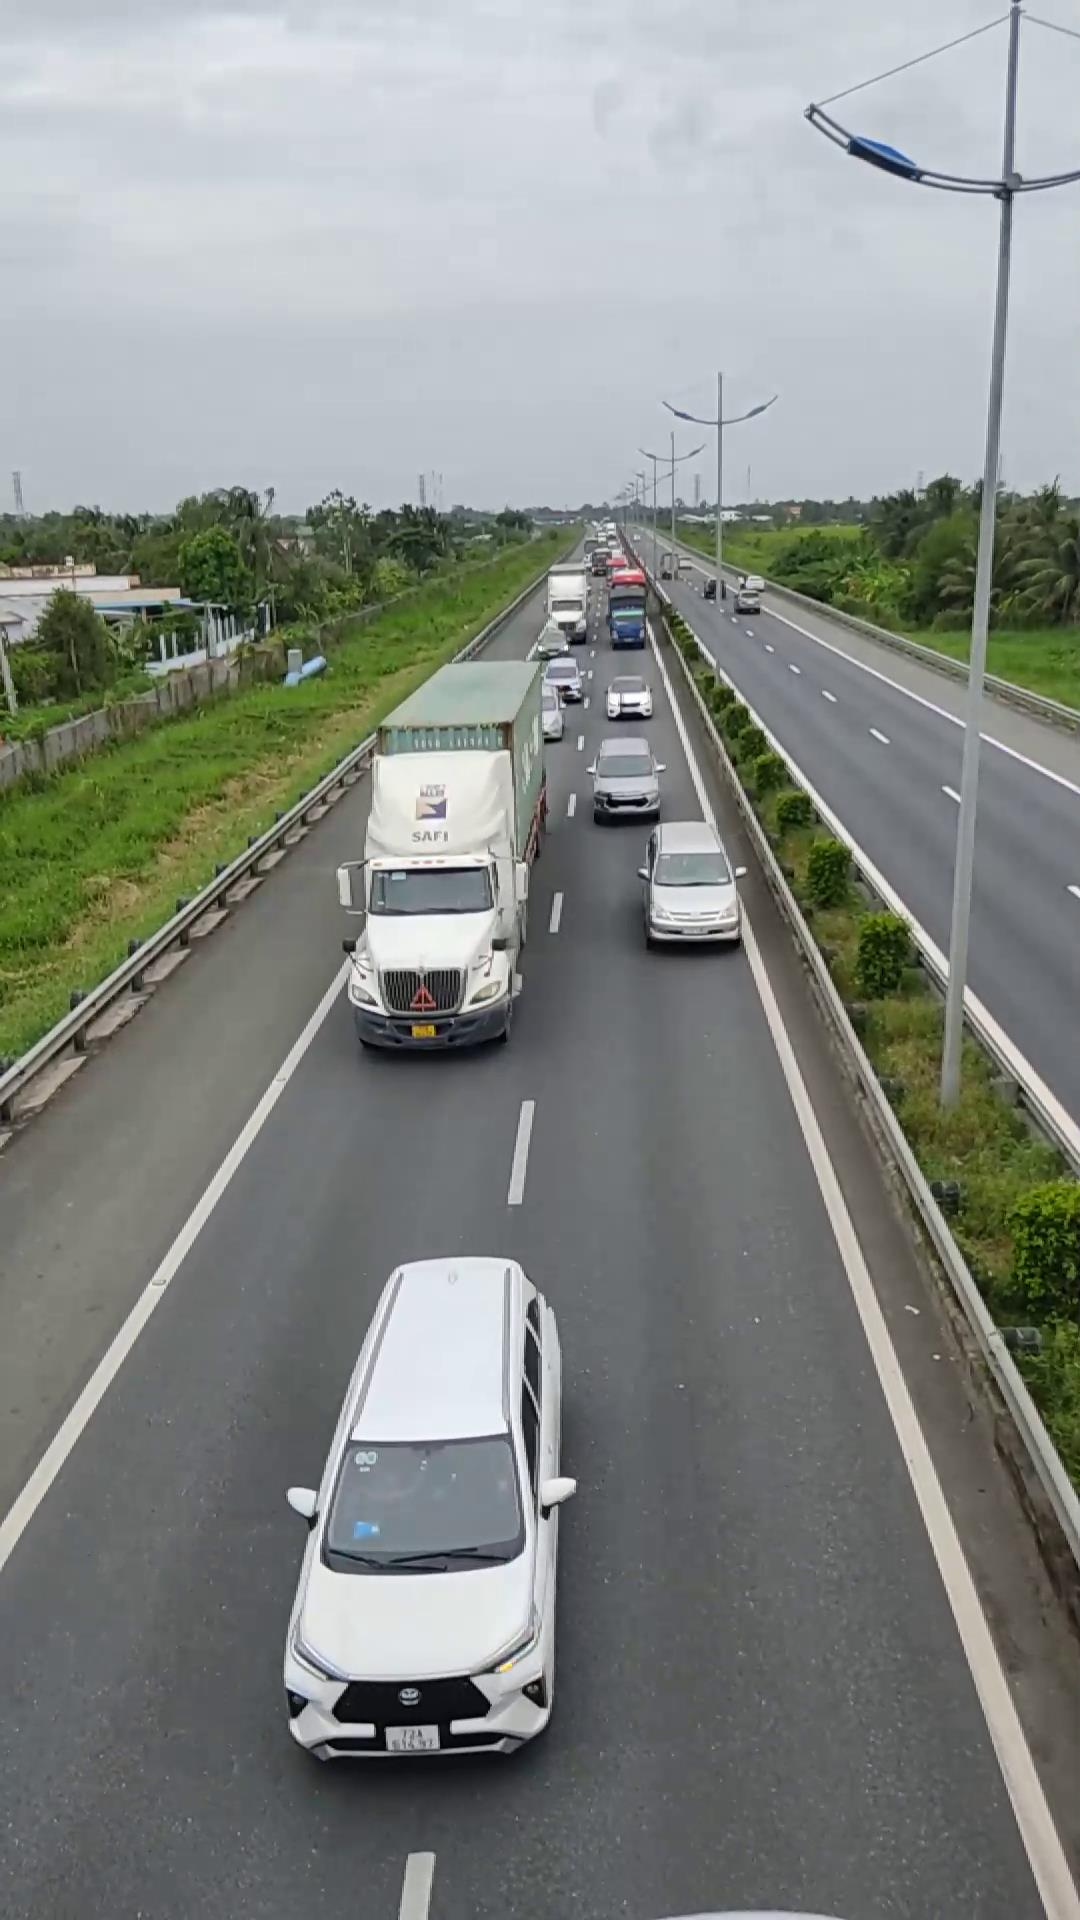car: (279, 1256, 574, 1769), (637, 817, 743, 950), (585, 735, 663, 822)
container: (342, 653, 552, 1053)
